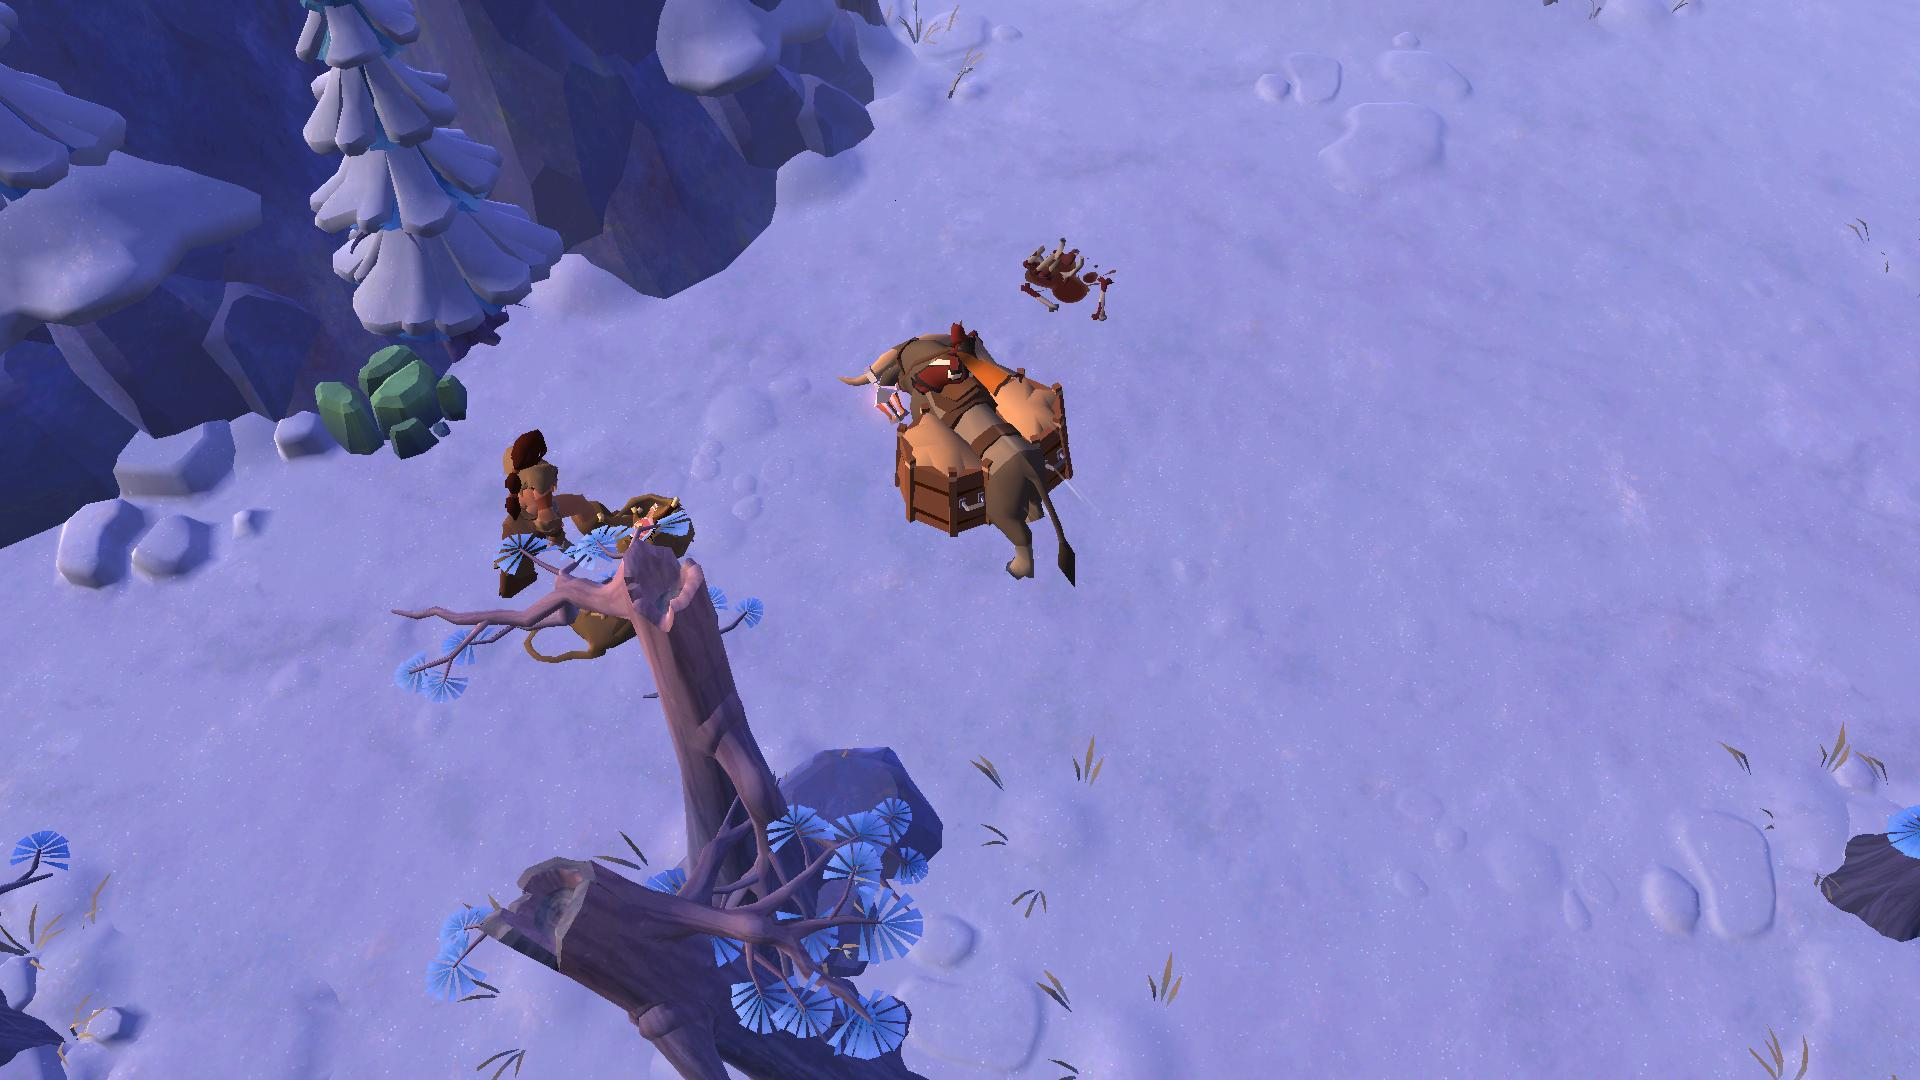enemy_factionKeeper: (489, 422, 617, 572)
rock_t3: (298, 340, 475, 459)
